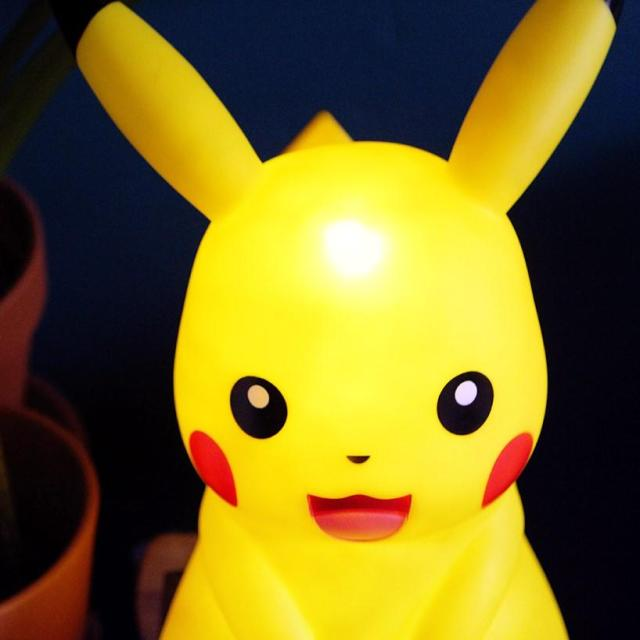pikachu: (76, 0, 617, 640)
